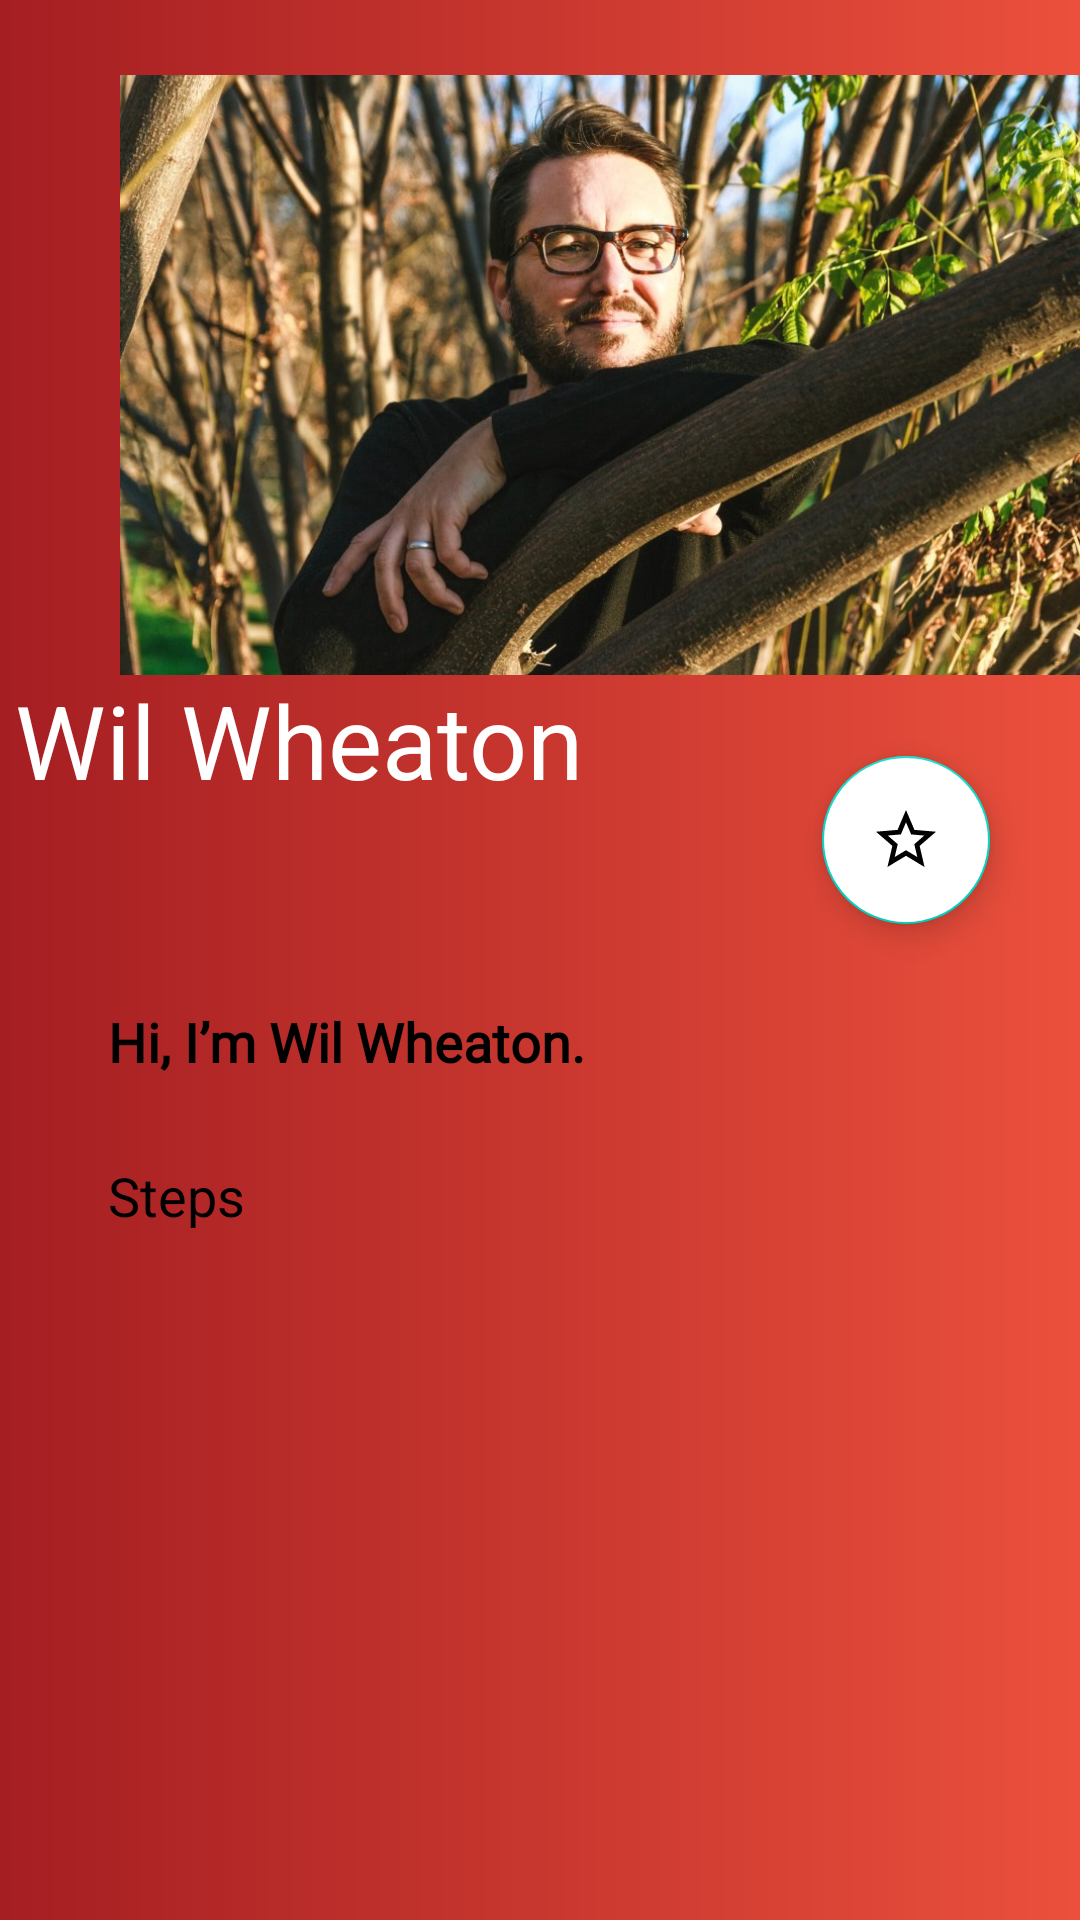

Screen size 1080×1920. Icon name, then its center in pixels as [x,y]:
star border: [906,840]
